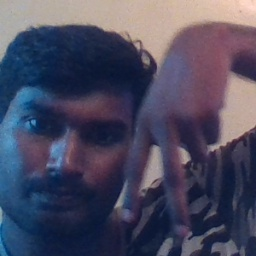Y: (121, 98, 222, 245)
